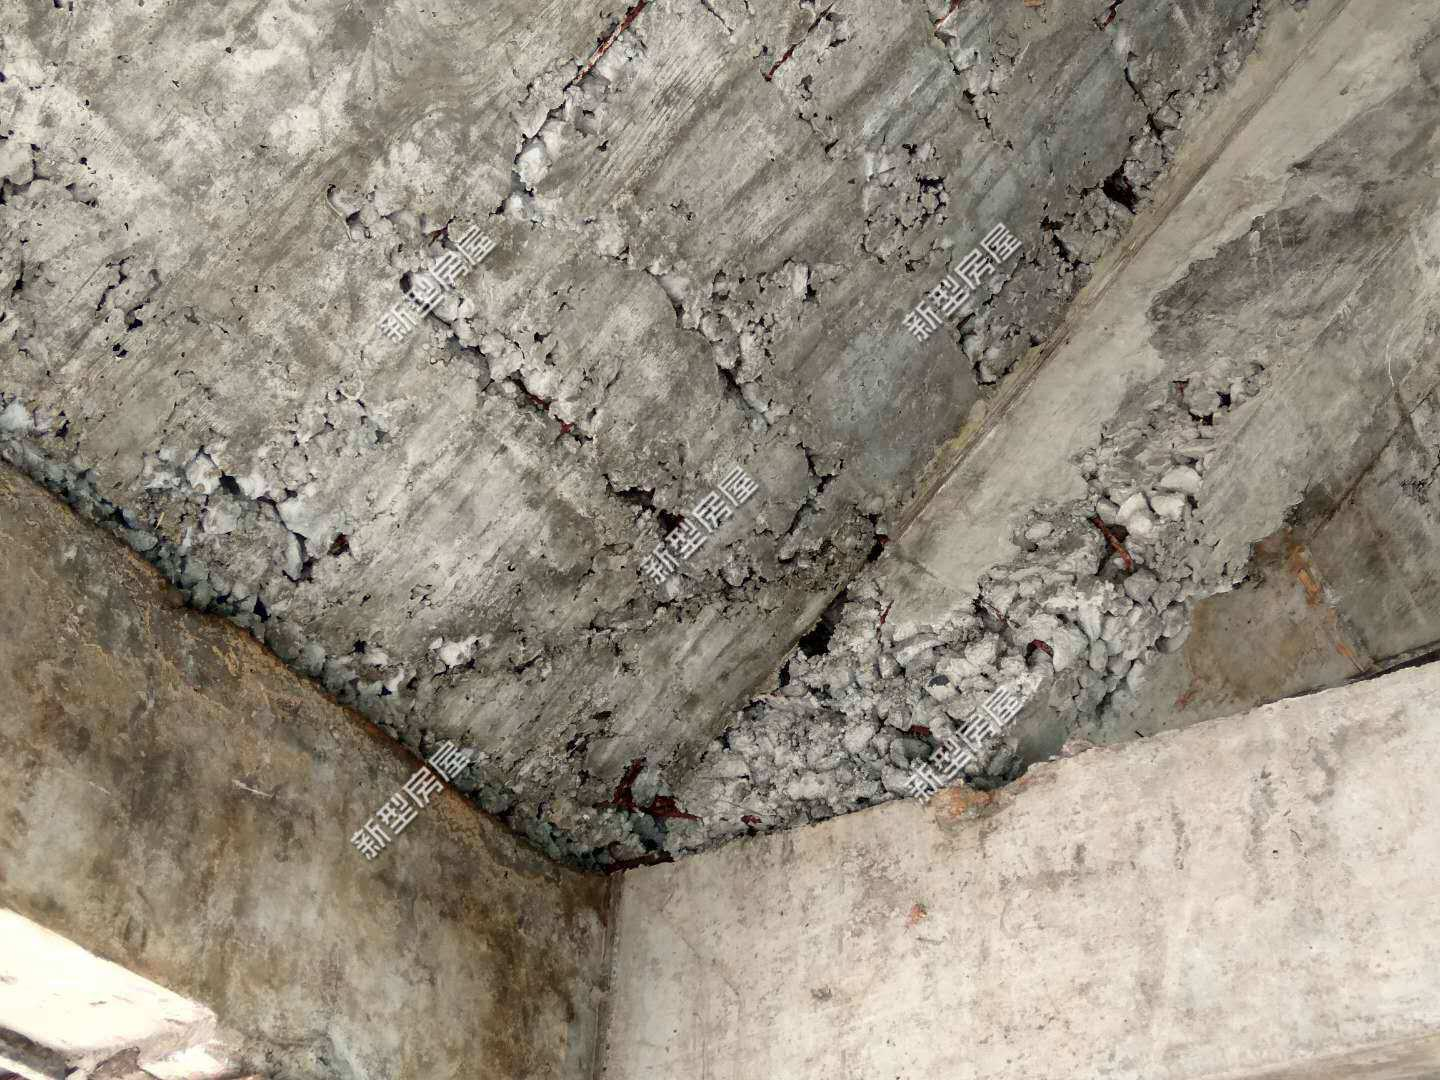Exposed reinforcement: (598, 792, 701, 820), (1092, 511, 1134, 574), (1031, 638, 1054, 657), (909, 725, 934, 739)
Spalling: (1, 1, 1276, 869)
